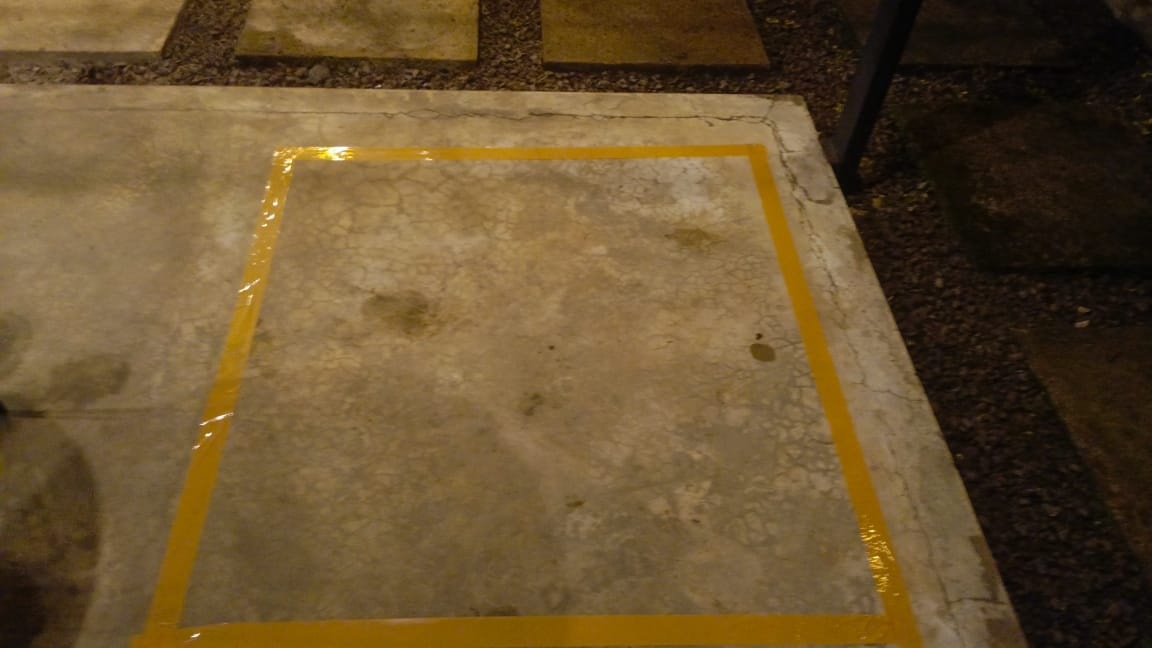floor marking: (131, 146, 922, 647)
